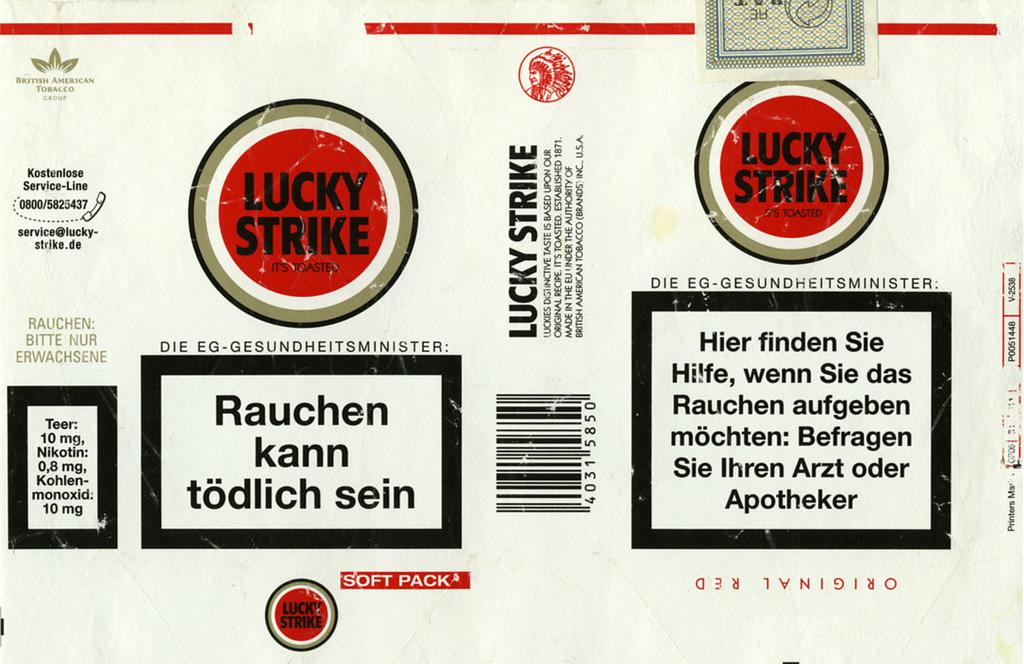lucky_strike_red: (629, 2, 953, 547), (141, 9, 465, 547)
